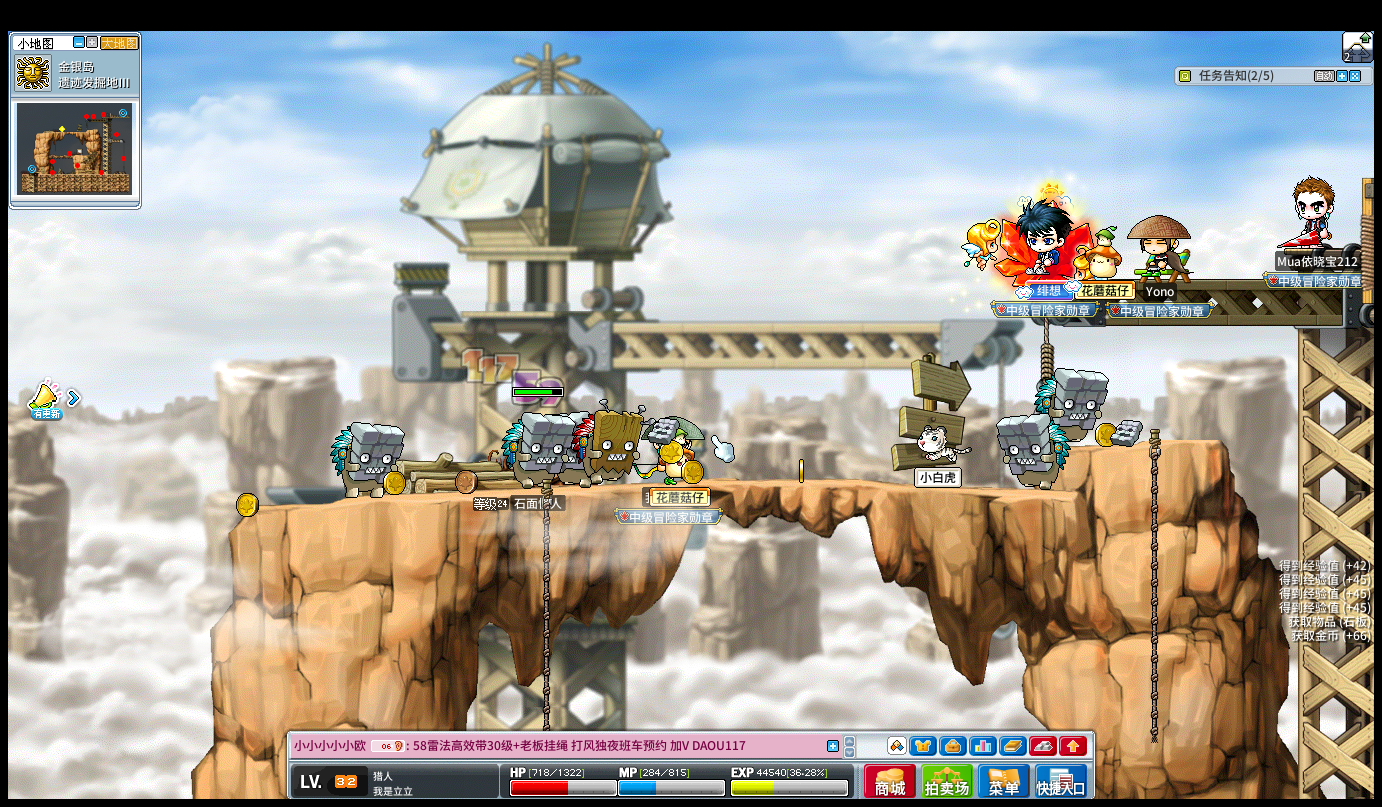floor: (222, 474, 1146, 503), (332, 476, 1089, 499), (1078, 435, 1224, 451)
monster: (571, 402, 644, 486), (329, 421, 403, 500), (996, 413, 1069, 492), (502, 410, 571, 489), (1040, 367, 1108, 444)
rope: (1145, 425, 1161, 748), (538, 481, 551, 696)
